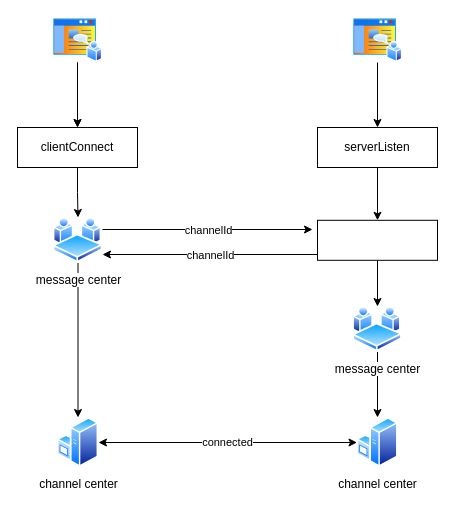
Some shapes in this 455 by 508 pixel diagram are drawn without their labels. The shapes that lost their labels are listed below. From the top down, each one's centre as x and y in pixels, then its label:
the point at 77,39: client
the point at 377,39: server
the point at 377,239: message listen
